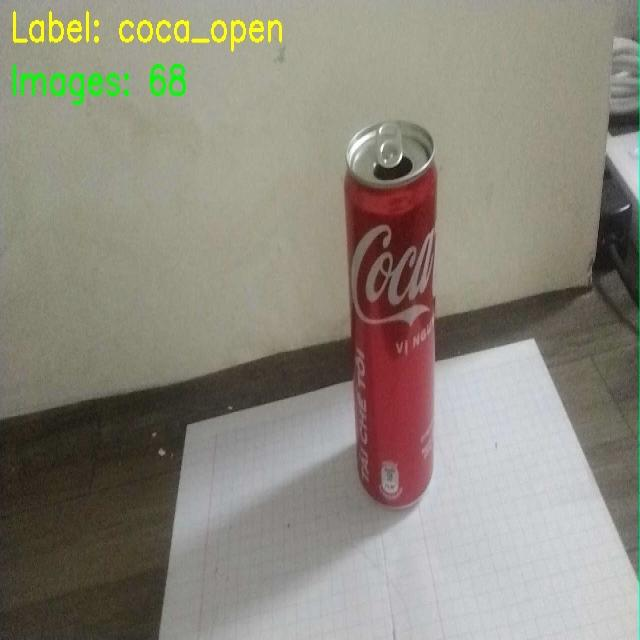Coca_open: (344, 118, 454, 516)
